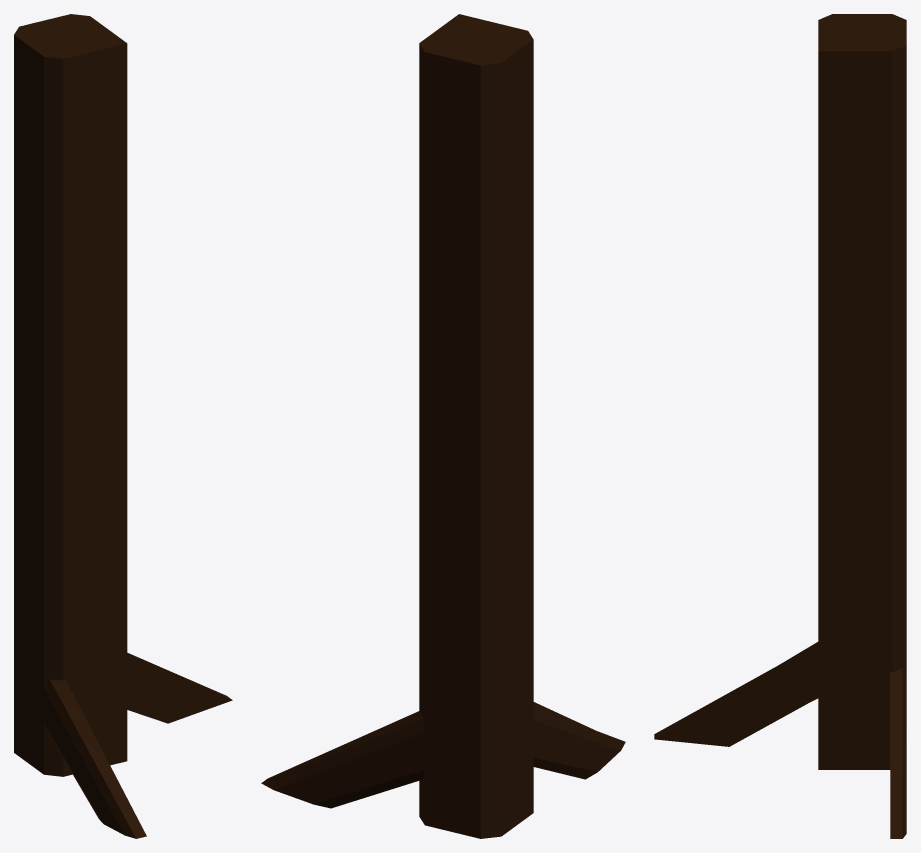
The model's file is Wall_Corner_FBX.fbx.
3 renders of one model, left to right at view 1: azimuth 30°, elevation 25°; view 2: azimuth 150°, elevation 25°; view 3: azimuth 270°, elevation 25°, orthographic. The views are drawn at different scales.
Parts seen in each view (by area): view 1: Box159, Box161, Box160; view 2: Box159, Box160, Box161; view 3: Box159, Box161, Box160.
Part boxes in pixels (<box>): Box159: <box>14,14,127,776</box>; Box161: <box>44,679,146,838</box>; Box160: <box>127,653,232,723</box>; Box159: <box>419,14,533,838</box>; Box160: <box>261,711,446,808</box>; Box161: <box>533,702,625,779</box>; Box159: <box>818,14,906,769</box>; Box161: <box>654,642,818,746</box>; Box160: <box>890,668,906,838</box>.
Bounding box in the file's own units: 143 × 455 × 143.
